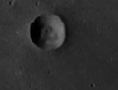crater: (11, 8, 96, 70)
